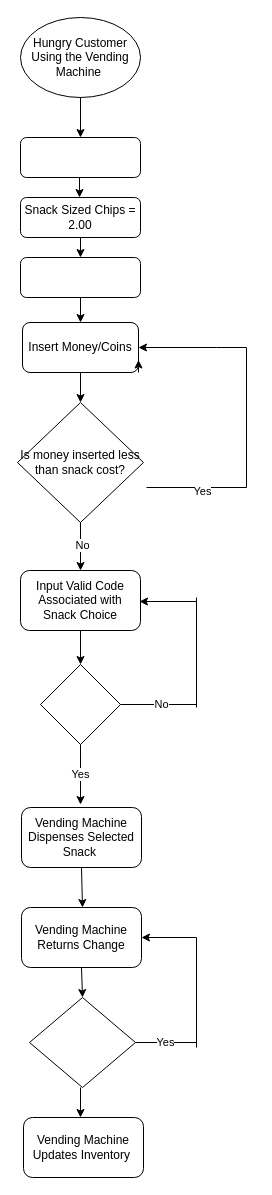
This 272x1195 diagram has some shape labels left out. The centre of each missing label's shape, as x and y in pixels:
Candy Packs = 1.50: the point at 80,277
is input code valid?: the point at 80,704
Is money inserted more than snack cost?: the point at 82,1042
Money/Coins = 10.00: the point at 80,157
